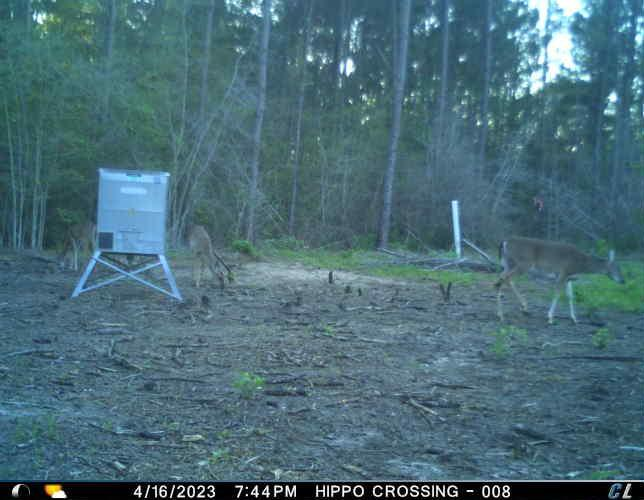Deer: (491, 233, 624, 331), (188, 221, 231, 291), (54, 219, 95, 271)
